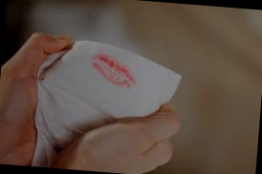lipstick: (86, 51, 140, 96)
